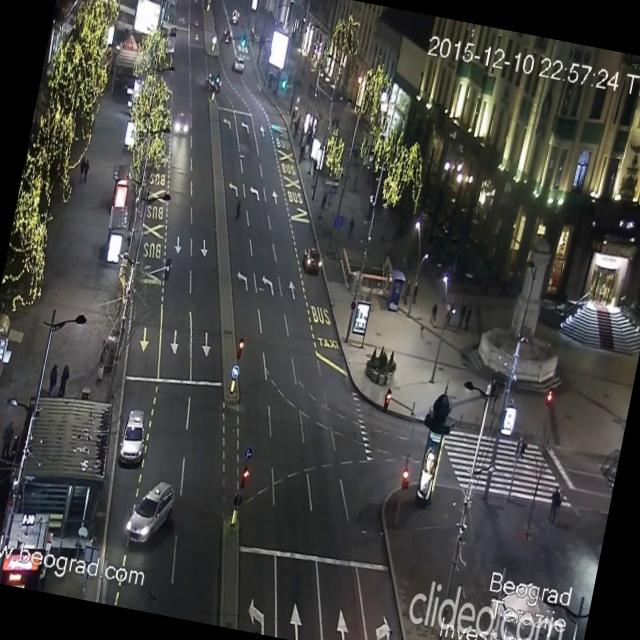car: (122, 476, 178, 548), (115, 406, 151, 468), (300, 246, 324, 276), (220, 24, 232, 43), (233, 52, 244, 72), (230, 5, 242, 22)
